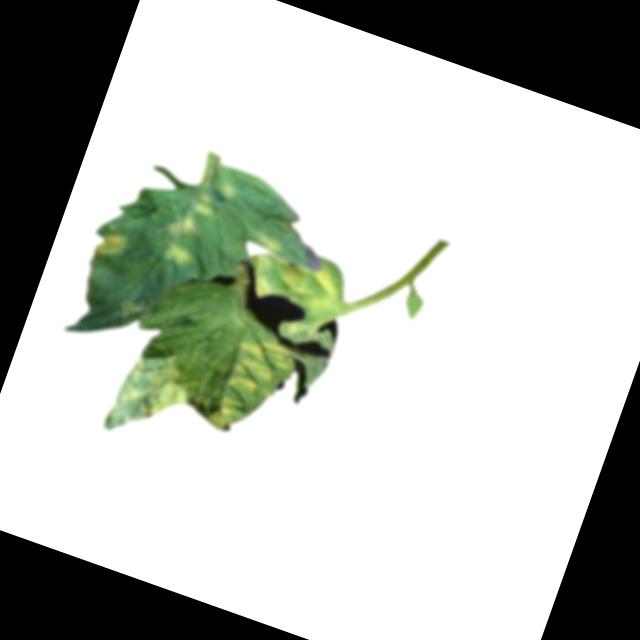Leaf_Mold: (208, 330, 304, 446), (240, 229, 356, 325), (102, 346, 201, 455), (158, 164, 235, 275), (92, 227, 132, 267)
